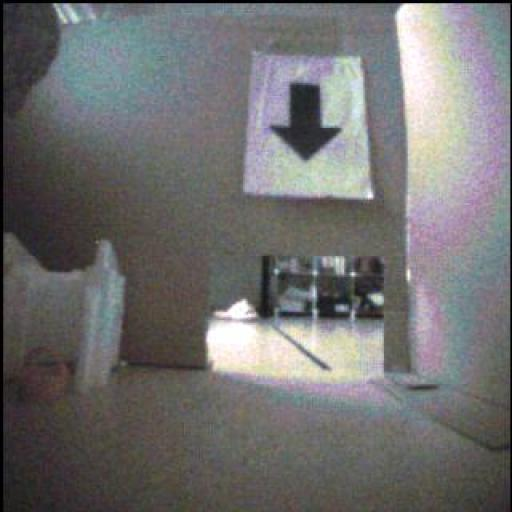arrow: (271, 84, 342, 161)
